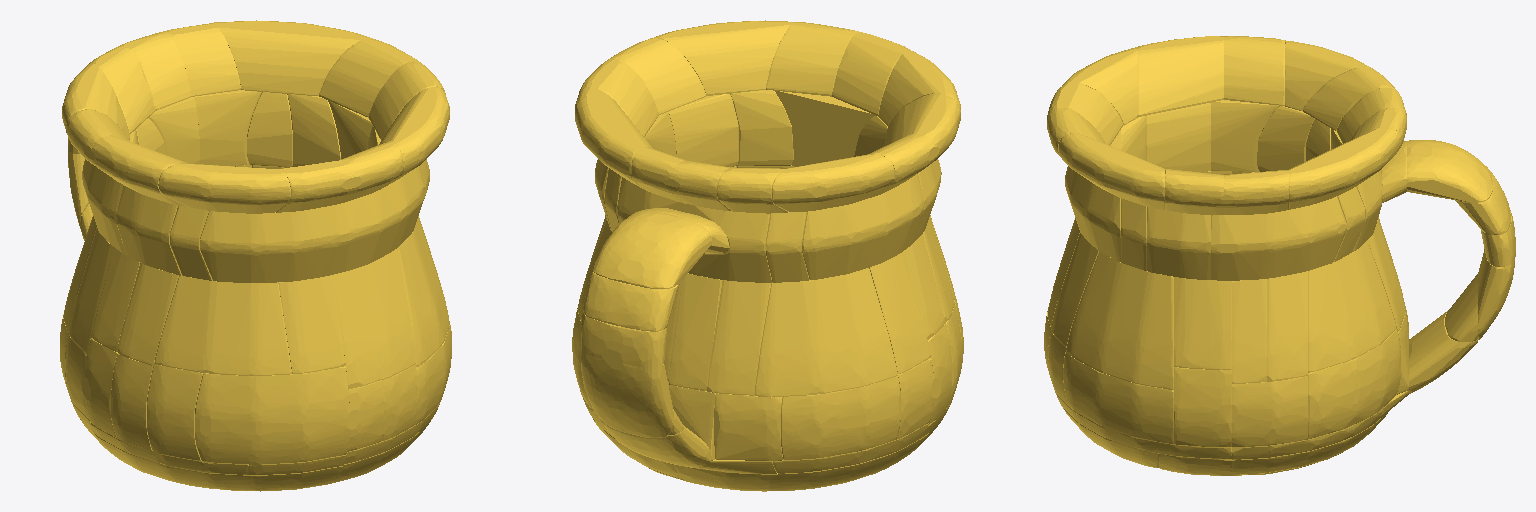
URDF robot description (128.urdf):
<?xml version="1.0" ?>
<robot name="128.urdf">
	<link name="baseLink">
		<inertial>
			<origin rpy="0 0 0" xyz="0 0 0"/>
				<mass value="0.1"/>
				<inertia ixx="6e-5" ixy="0" ixz="0" iyy="6e-5" iyz="0" izz="6e-5"/>
		</inertial>
		<visual>
			<origin rpy="0 0 0" xyz="0 0 0"/>
			<geometry>
				<mesh filename="1_decom_wt.obj" scale="0.91 0.91 0.94"/>
			</geometry>
			<material name="yellow">
				<color rgba="0.98 0.84 0.35 1"/>
			</material>
		</visual>
		<collision>
			<origin rpy="0 0 0" xyz="0 0 0"/>
			<geometry>
				<mesh filename="1_decom_wt.obj" scale="0.91 0.91 0.94"/>
			</geometry>
		</collision>
	</link>
</robot>

--- Render facts (derived) ---
The picture shows the robot from 3 angles, left to right: view 1: azimuth 30°, elevation 25°; view 2: azimuth 150°, elevation 25°; view 3: azimuth 270°, elevation 25°; orthographic projection.
Model 128.urdf with 1 links and 0 joints (none), rooted at baseLink, posed every joint at zero.
Visible links, largest first — view 1: baseLink; view 2: baseLink; view 3: baseLink.
Boxes of the visible links, x1,y1,x2,y2 form: baseLink: [60, 20, 451, 491]; baseLink: [572, 20, 963, 491]; baseLink: [1044, 36, 1515, 475].
Size in the robot's own frame: 0.0893 by 0.115 by 0.0833 metres.
1 mesh visuals loaded from 1 distinct referenced files (1 OBJ).